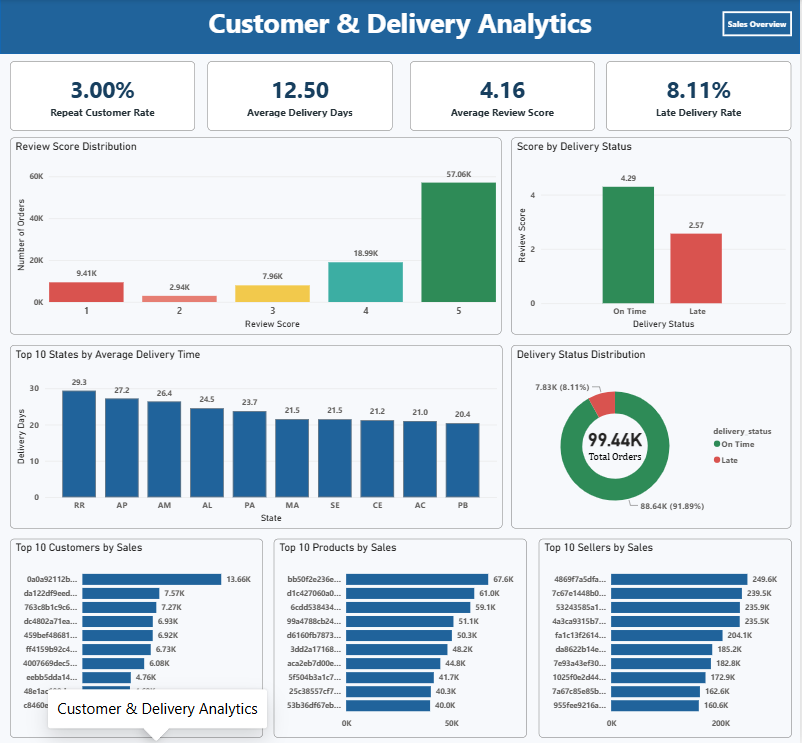

This screenshot's page, from the dashboard's own definition file:
{"tool":"powerbi","page":{"name":"Customer & Delivery Analytics","canvas":[1280,1200],"ordinal":1},"visuals":[{"type":"clusteredColumnChart","title":"Review Score Distribution","fields":{"Category":["public vw_review_analysis.review_score"],"Y":["CountNonNull(public vw_review_analysis.review_score)"]},"box":[16.7,228.3,786.7,315],"z":0},{"type":"clusteredColumnChart","title":"Score by Delivery Status","fields":{"Category":["public vw_review_analysis.delivery_status"],"Y":["Avg(public vw_review_analysis.review_score)"]},"box":[818.3,228.3,448.3,315],"z":1000},{"type":"clusteredColumnChart","title":"Top 10 States by Average Delivery Time","fields":{"Category":["public vw_delivery_analysis.customer_state"],"Y":["Avg(public vw_delivery_analysis.delivery_days)"]},"box":[16.7,560,788.3,293.3],"z":2000},{"type":"donutChart","title":"Delivery Status Distribution","fields":{"Category":["public vw_delivery_analysis.delivery_status"],"Y":["Count(public vw_delivery_analysis.order_id)"]},"box":[818.3,560,448.3,293.3],"z":3000},{"type":"clusteredBarChart","title":"Top 10 Customers by Sales","fields":{"Category":["public vw_customer_analysis.customer_unique_id"],"Y":["Sum(public vw_customer_analysis.total_spent)"]},"box":[16.7,870,405,318.3],"z":4000},{"type":"clusteredBarChart","title":"Top 10 Products by Sales","fields":{"Category":["public vw_product_analysis.product_id"],"Y":["Sum(public vw_product_analysis.total_sales)"]},"box":[438.3,870,405,318.3],"z":5000},{"type":"clusteredBarChart","title":"Top 10 Sellers by Sales","fields":{"Category":["public vw_seller_analysis.seller_id"],"Y":["Sum(public vw_seller_analysis.total_sales)"]},"box":[861.7,870,405,318.3],"z":6000},{"type":"cardVisual","fields":{"Data":["public vw_customer_analysis.Repeat Customer Rate"]},"box":[15,105,296.2,111.2],"z":7000},{"type":"cardVisual","fields":{"Data":["Avg(public vw_delivery_analysis.delivery_days)"]},"box":[332.5,105,296.2,111.2],"z":8000},{"type":"cardVisual","fields":{"Data":["public vw_delivery_analysis.Late Delivery Rate"]},"box":[970,105,296.2,111.2],"z":9000},{"type":"cardVisual","fields":{"Data":["Avg(public vw_review_analysis.review_score)"]},"box":[655,105,296.2,111.2],"z":10000},{"type":"shape","box":[0,0,1280.3,94.7],"z":11000},{"type":"textbox","box":[0,10,1280,71.2],"z":12000},{"type":"actionButton","box":[1155,26.2,111.2,40],"z":12001}]}

Visuals, with their boxes in screenshot pixels (x1, y1, x2, y2), scaled from the page's 1280x1200 canvas onto the 802x743 screenshot:
"Review Score Distribution" clusteredColumnChart: {"left": 10, "top": 141, "right": 503, "bottom": 336}
"Score by Delivery Status" clusteredColumnChart: {"left": 513, "top": 141, "right": 794, "bottom": 336}
"Top 10 States by Average Delivery Time" clusteredColumnChart: {"left": 10, "top": 347, "right": 504, "bottom": 528}
"Delivery Status Distribution" donutChart: {"left": 513, "top": 347, "right": 794, "bottom": 528}
"Top 10 Customers by Sales" clusteredBarChart: {"left": 10, "top": 539, "right": 264, "bottom": 736}
"Top 10 Products by Sales" clusteredBarChart: {"left": 275, "top": 539, "right": 528, "bottom": 736}
"Top 10 Sellers by Sales" clusteredBarChart: {"left": 540, "top": 539, "right": 794, "bottom": 736}
cardVisual - public vw_customer_analysis.Repeat Customer Rate: {"left": 9, "top": 65, "right": 195, "bottom": 134}
cardVisual - Avg(public vw_delivery_analysis.delivery_days): {"left": 208, "top": 65, "right": 394, "bottom": 134}
cardVisual - public vw_delivery_analysis.Late Delivery Rate: {"left": 608, "top": 65, "right": 793, "bottom": 134}
cardVisual - Avg(public vw_review_analysis.review_score): {"left": 410, "top": 65, "right": 596, "bottom": 134}
shape: {"left": 0, "top": 0, "right": 801, "bottom": 59}
textbox: {"left": 0, "top": 6, "right": 801, "bottom": 50}
actionButton: {"left": 724, "top": 16, "right": 793, "bottom": 41}
